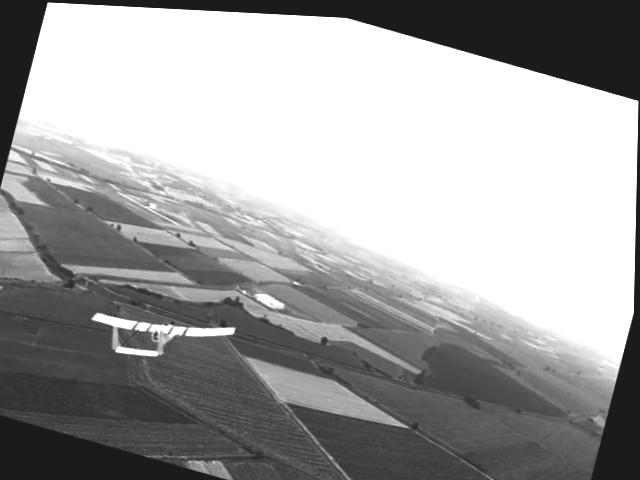hedef: (80, 282, 245, 393)
